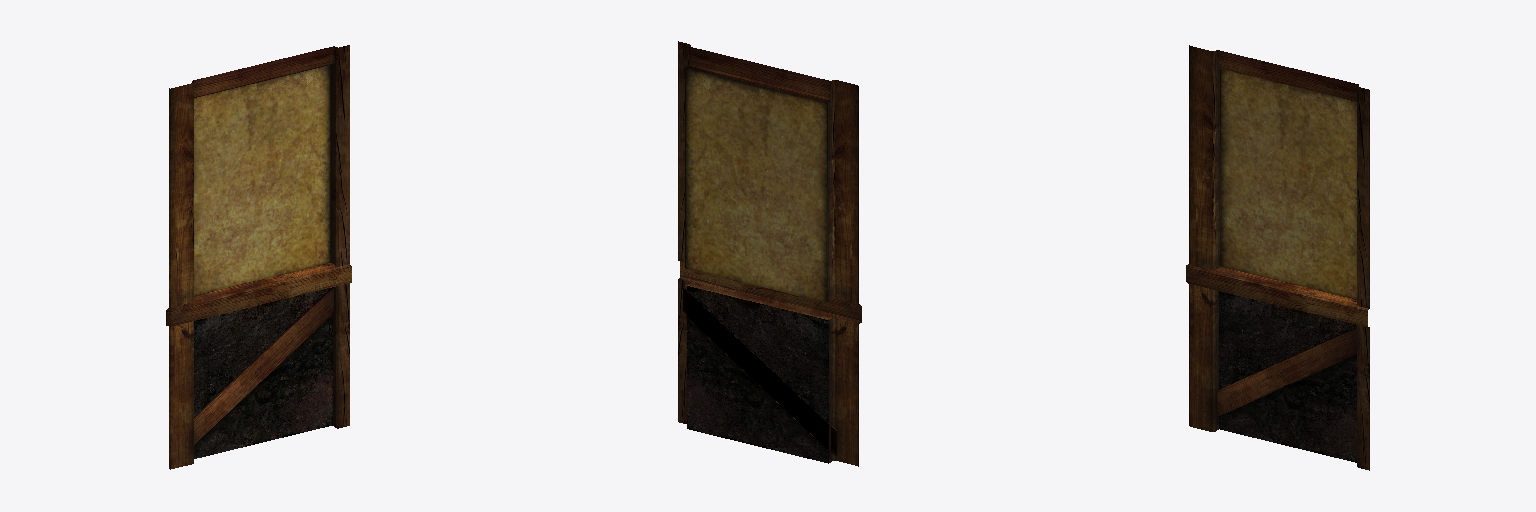
3 views of the same model, side by side, from view 1: azimuth 30°, elevation 25°; view 2: azimuth 150°, elevation 25°; view 3: azimuth 330°, elevation 25° (orthographic).
Visible parts, largest first — view 1: Wall001_C019; view 2: Wall001_C019; view 3: Wall001_C019.
Part boxes in pixels (x1,y1,x2,y2): Wall001_C019: (166, 45, 351, 469); Wall001_C019: (678, 41, 861, 466); Wall001_C019: (1186, 45, 1369, 470).
Size of the model in its own units: 129 by 256 by 9.62.
1 materials, 1 textured.